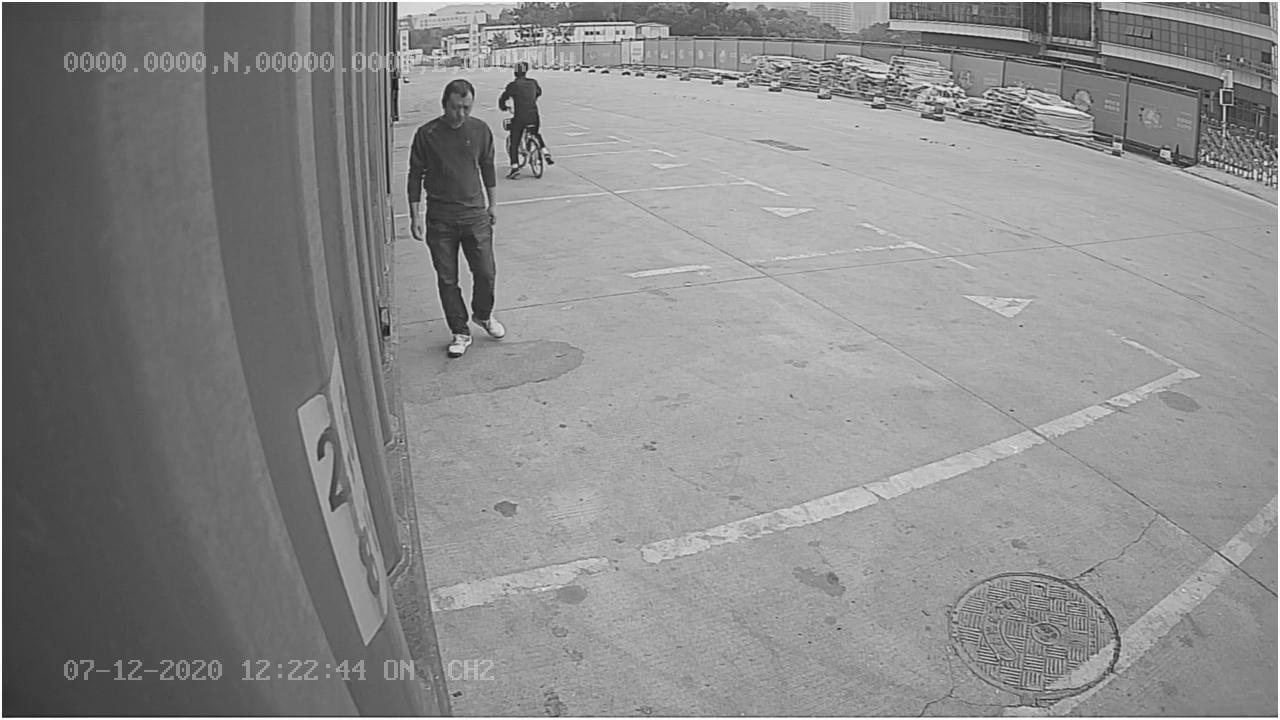person: (405, 76, 509, 358)
